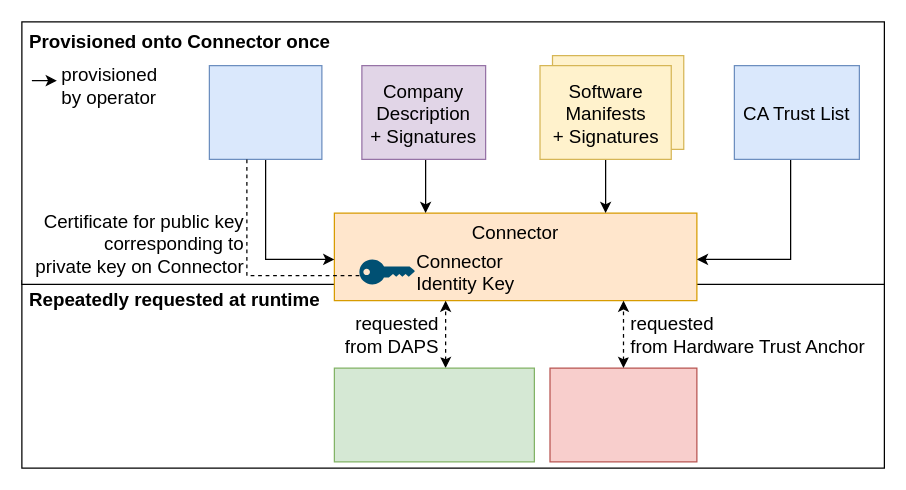
This 906x490 diagram has some shape labels left out. The centre of each missing label's shape, as x and y in pixels:
DAT for Connector with revocation information and dynamic attributes + Signature: point (433, 414)
Identity Certificate for Connector: point (265, 111)
Measurements (incl. Nonce) signed by Connector: point (623, 414)
